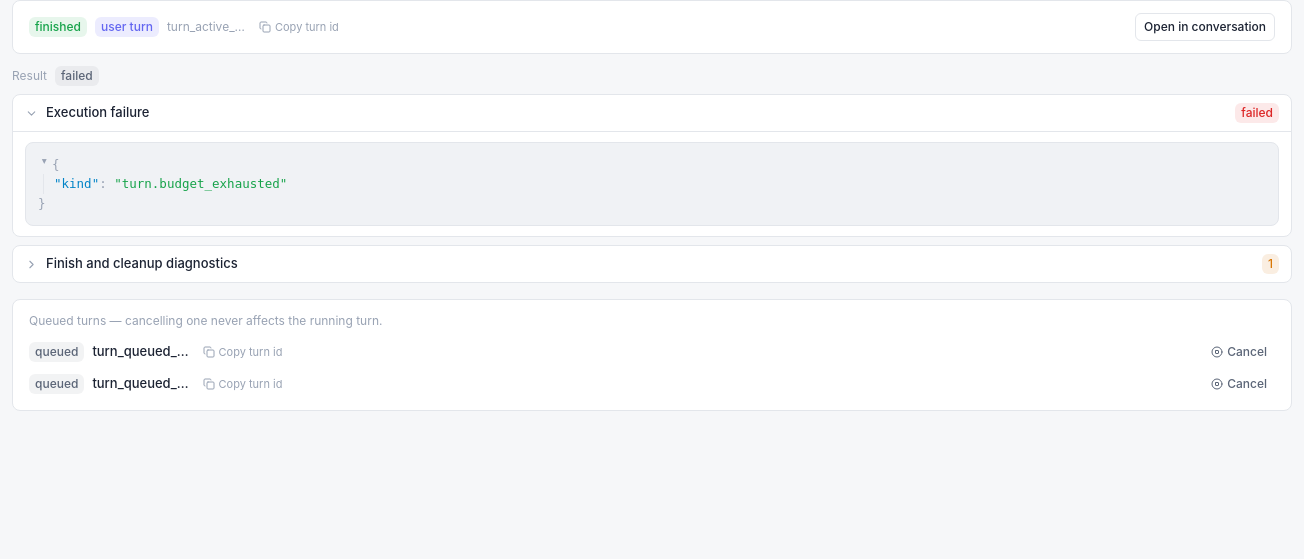
Test: ExecutionTab › keeps an execution failure apart from after-finish diagnostics
What coordinates should you click on to do the following:
click the button "Finish and cleanup diagnostics 1"
I would click on:
 (142, 263)
Its box is [13,246,1291,282].
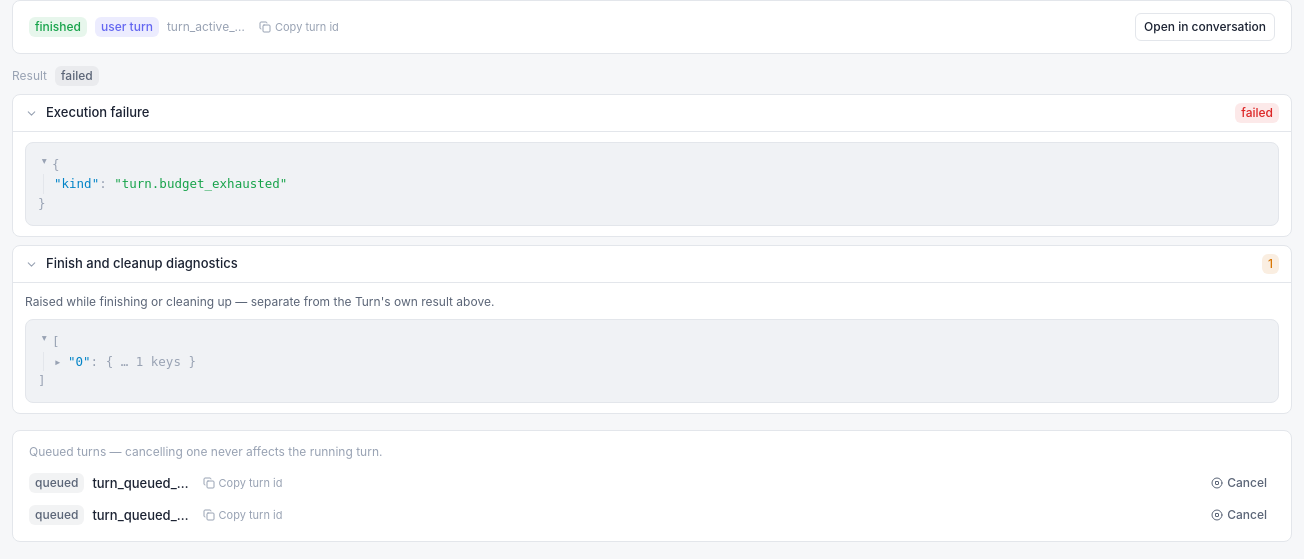
Now the text "Raised while finishing" is shown, box [25,294,494,309]
